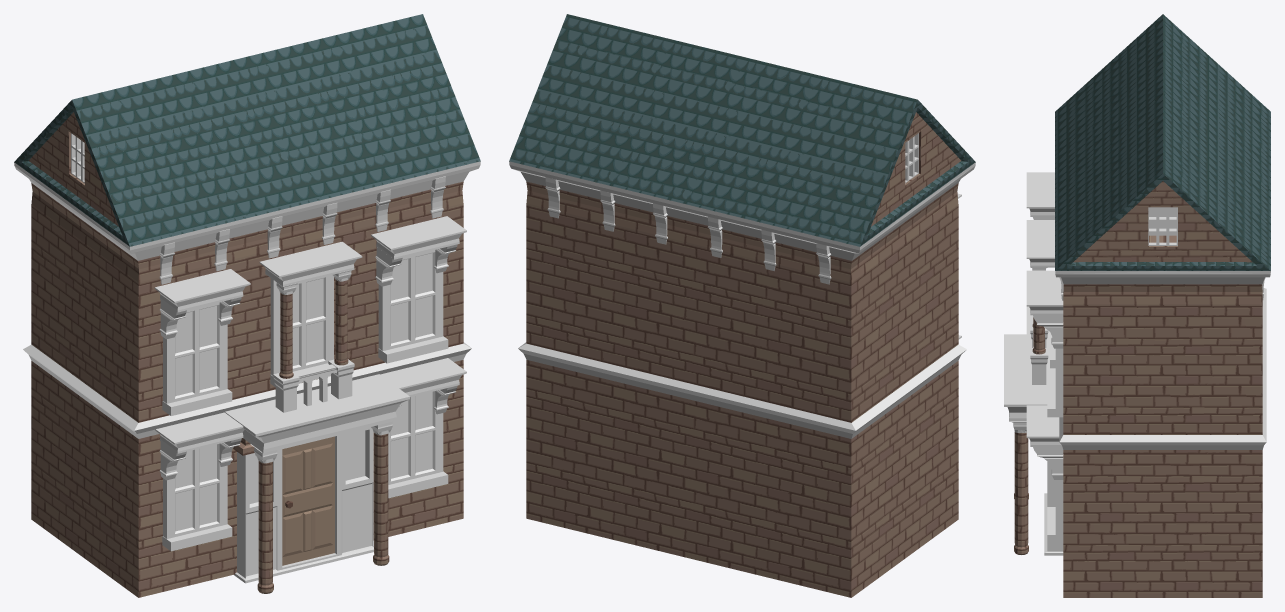
Rendered from 单体建筑1x1.fbx.
3 views of the same model, side by side, from view 1: azimuth 30°, elevation 25°; view 2: azimuth 150°, elevation 25°; view 3: azimuth 270°, elevation 25° (orthographic). The views are drawn at different scales.
Parts seen in each view (by area): view 1: 1x1_1, 门1.001; view 2: 1x1_1; view 3: 1x1_1.
Part boxes in pixels (x1,y1,x2,y2): 1x1_1: [14, 14, 480, 597]; 门1.001: [282, 436, 334, 565]; 1x1_1: [509, 14, 975, 597]; 1x1_1: [1004, 14, 1270, 597].
Bounding box in the file's own units: 1495 × 1892 × 1057.
Materials: 5 (3 with a texture image).
